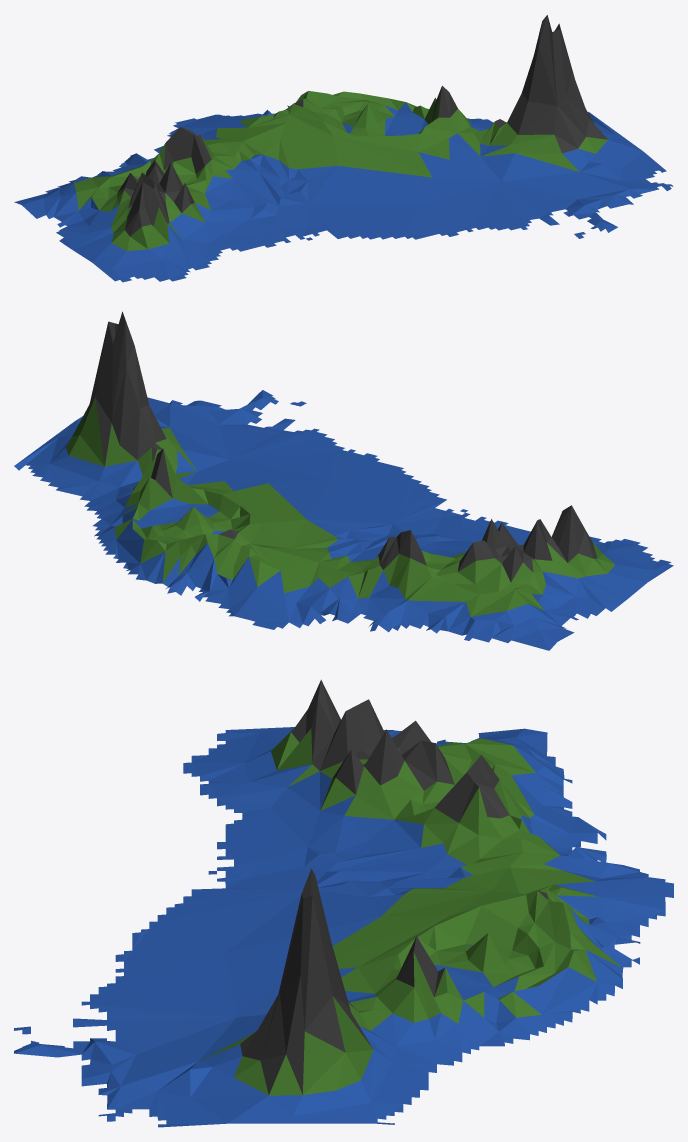
The model's file is Mountain7_low.fbx.
The picture shows the model from 3 angles, top to bottom: view 1: azimuth 30°, elevation 25°; view 2: azimuth 150°, elevation 25°; view 3: azimuth 270°, elevation 25°; orthographic projection. The views are drawn at different scales.
Visible parts, largest first — view 1: Plane.022; view 2: Plane.022; view 3: Plane.022.
Boxes of the visible parts, bbox=[...] form: Plane.022: bbox=[14, 15, 673, 282]; Plane.022: bbox=[14, 311, 673, 650]; Plane.022: bbox=[14, 679, 673, 1127].
Bounding box in the file's own units: 2001 × 498 × 1418.
